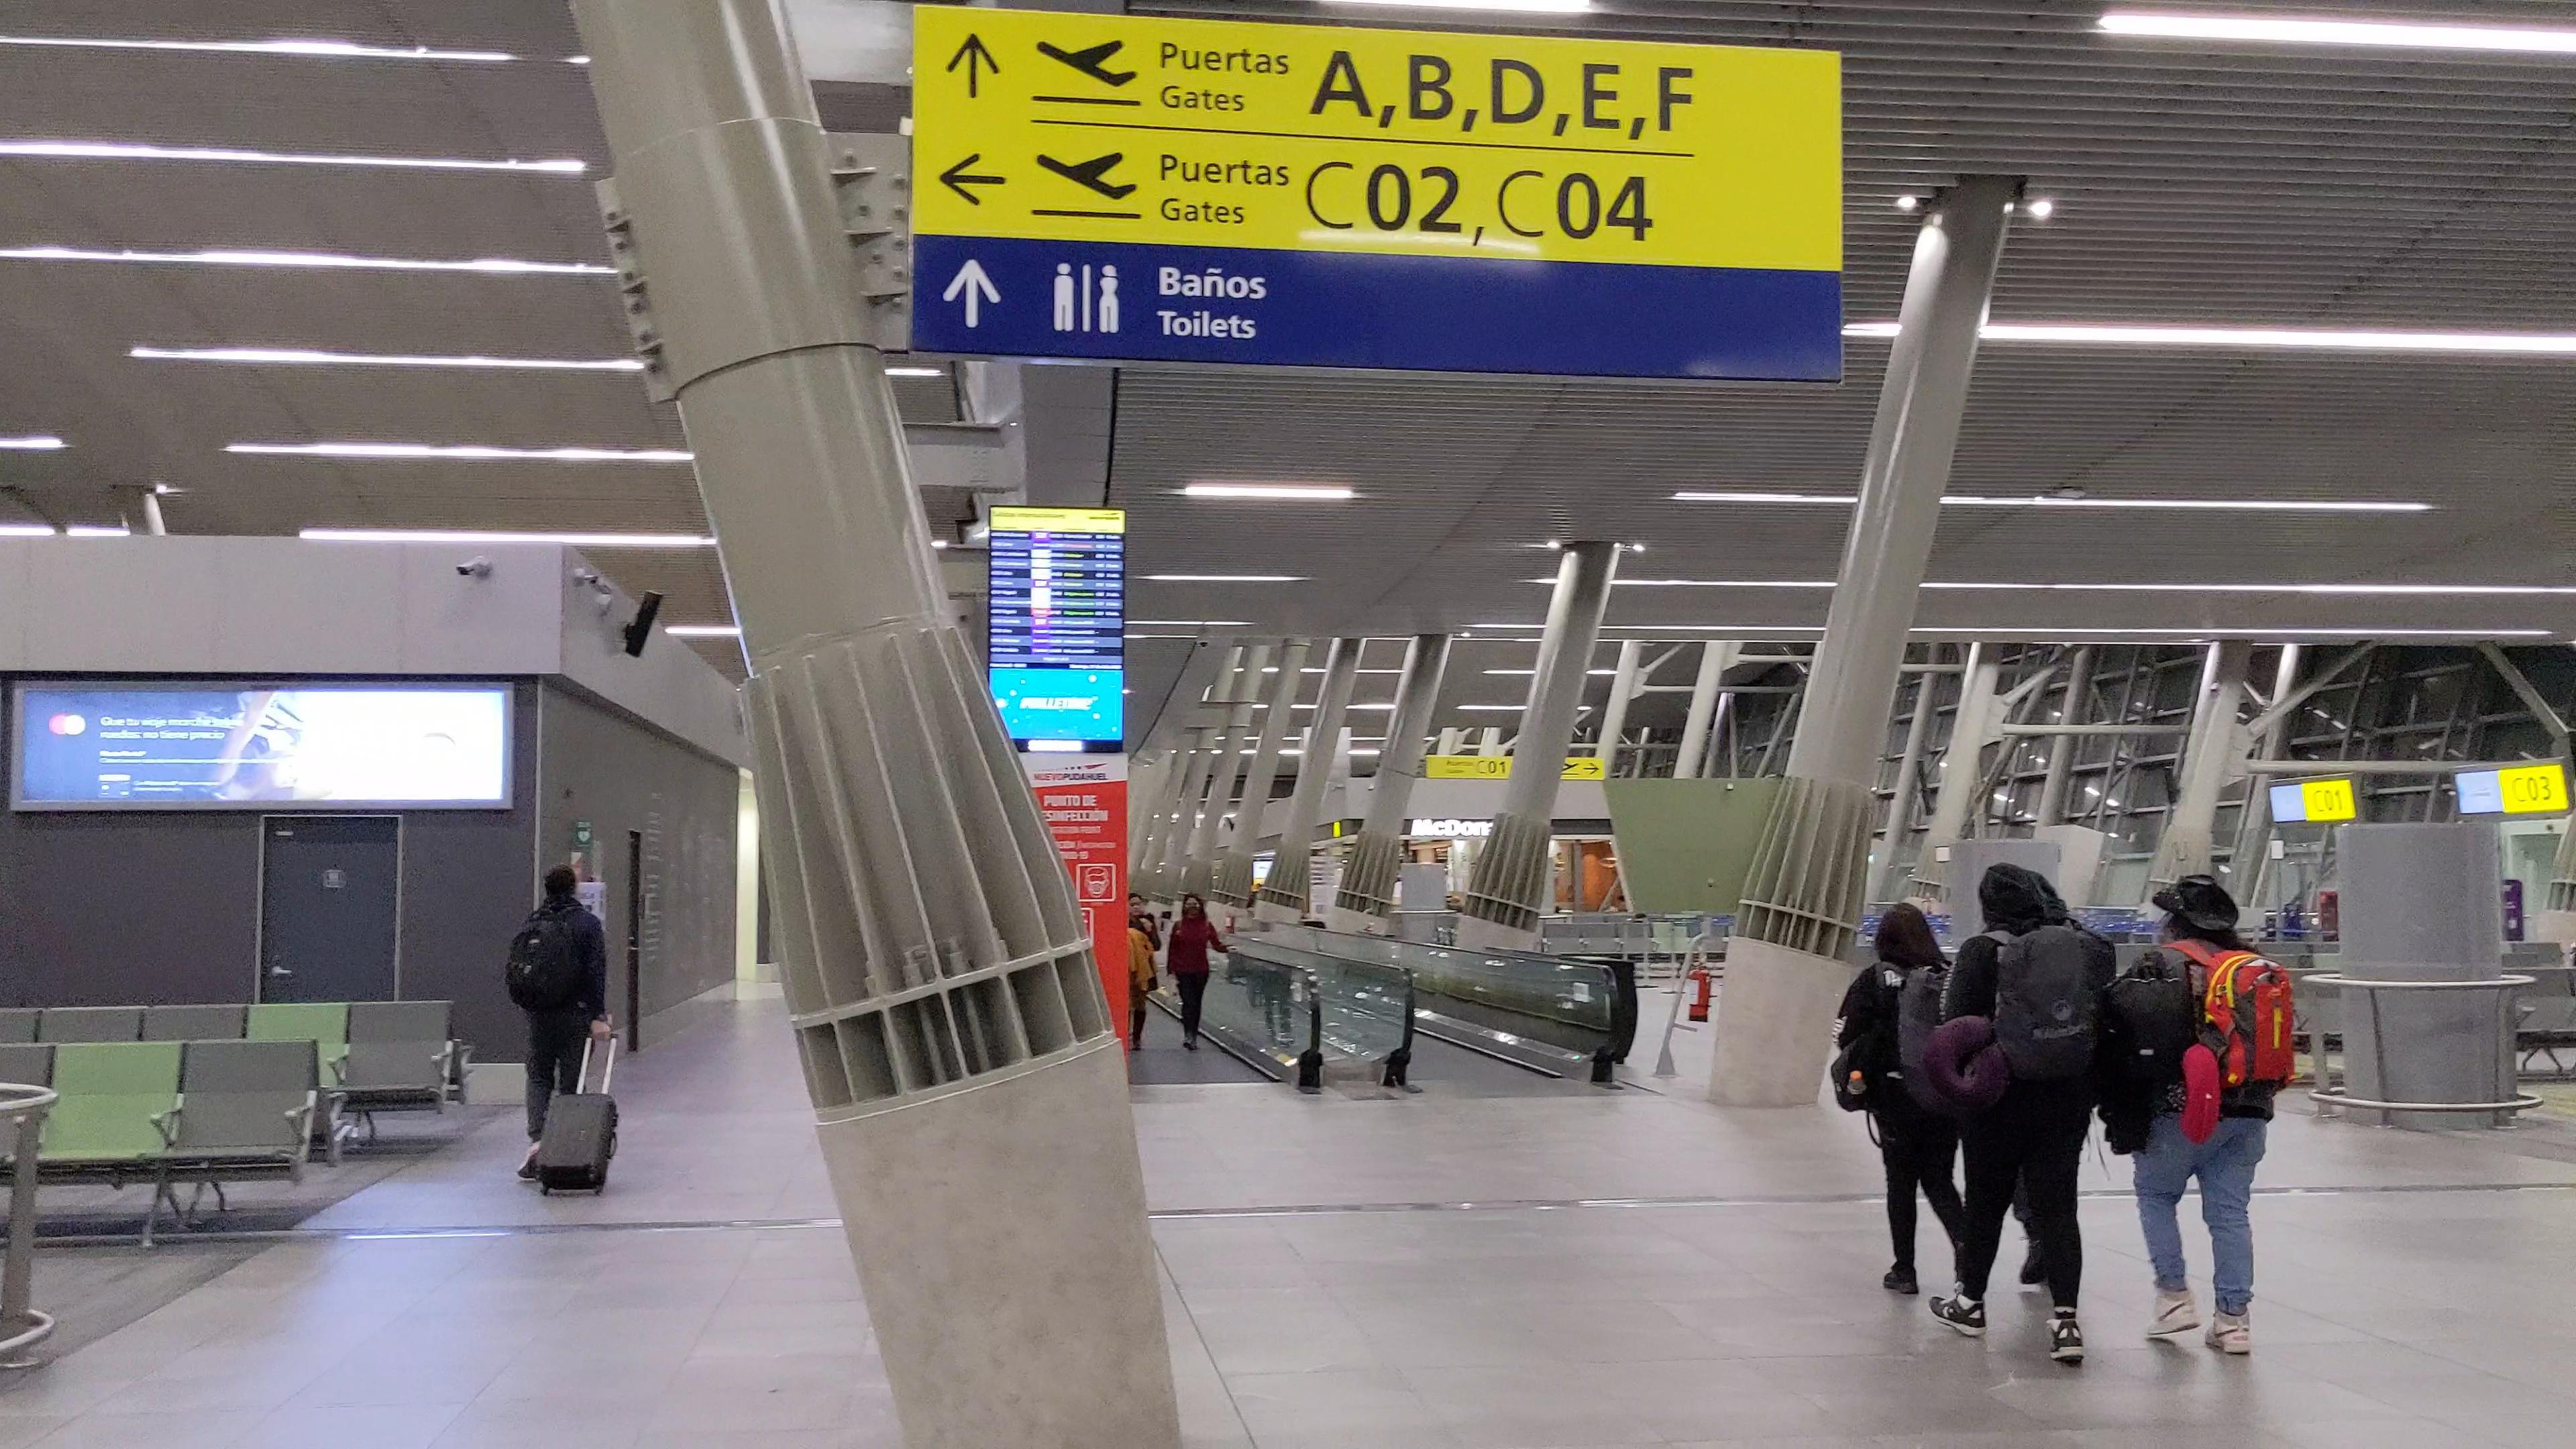airplane symbol: (1030, 32, 1138, 92), (1035, 147, 1143, 203), (1560, 761, 1580, 771)
bathrooms: (1047, 258, 1127, 338)
thin left arrow: (931, 147, 1016, 212)
thin right arrow: (1582, 763, 1599, 775)
thin up arrow: (938, 255, 1005, 333), (943, 25, 1005, 108)
